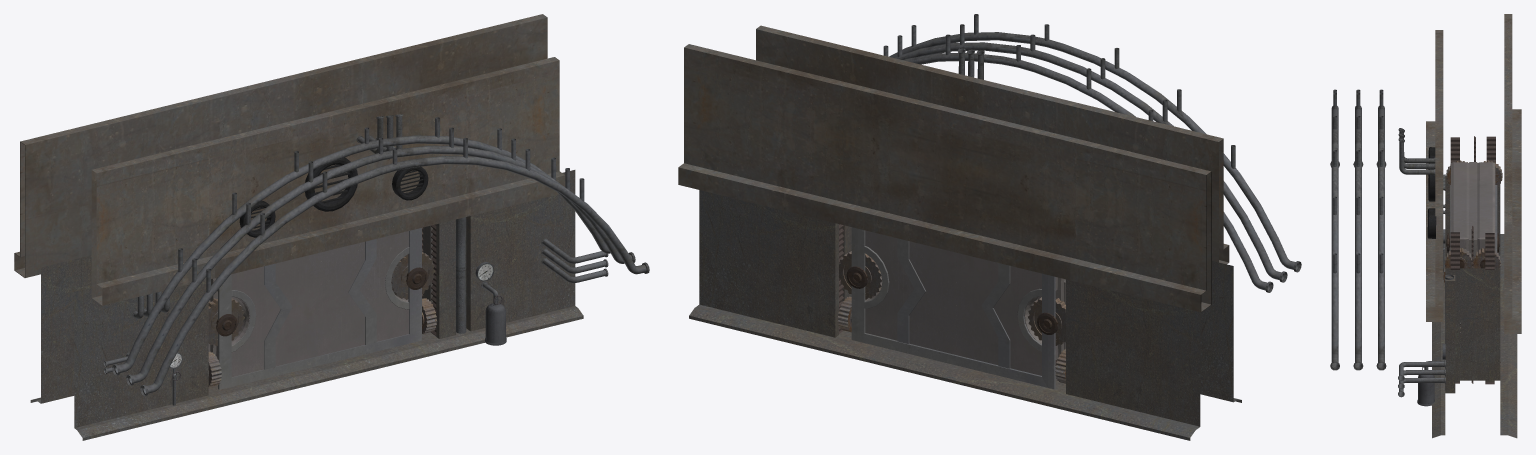
Rendered from Outside_MainGate.fbx.
3 renders of one model, left to right at view 1: azimuth 30°, elevation 25°; view 2: azimuth 150°, elevation 25°; view 3: azimuth 270°, elevation 25°, orthographic. The views are drawn at different scales.
Visible parts, largest first — view 1: Walls, Gate, Inset_Pipe1; view 2: Walls, Gate, Inset_Pipe1; view 3: Walls, Inset_Pipe1, Gate.
Part boxes in pixels (left/top/right/bottom): Walls: left=14, top=14, right=583, bottom=440; Gate: left=208, top=228, right=437, bottom=389; Inset_Pipe1: left=104, top=114, right=649, bottom=405; Walls: left=678, top=25, right=1241, bottom=440; Gate: left=837, top=227, right=1065, bottom=389; Inset_Pipe1: left=883, top=14, right=1301, bottom=292; Walls: left=1426, top=14, right=1521, bottom=438; Inset_Pipe1: left=1330, top=89, right=1453, bottom=406; Gate: left=1443, top=160, right=1502, bottom=365.
Bounding box in the file's own units: 1471 × 734 × 566.
